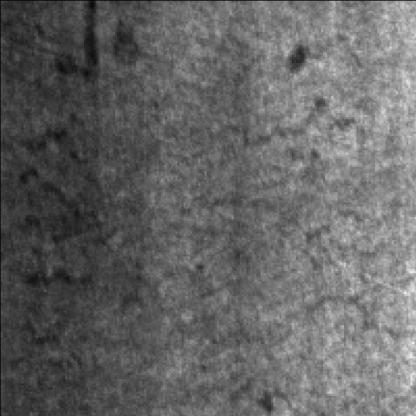crazing: (200, 88, 414, 326), (22, 106, 148, 345)
